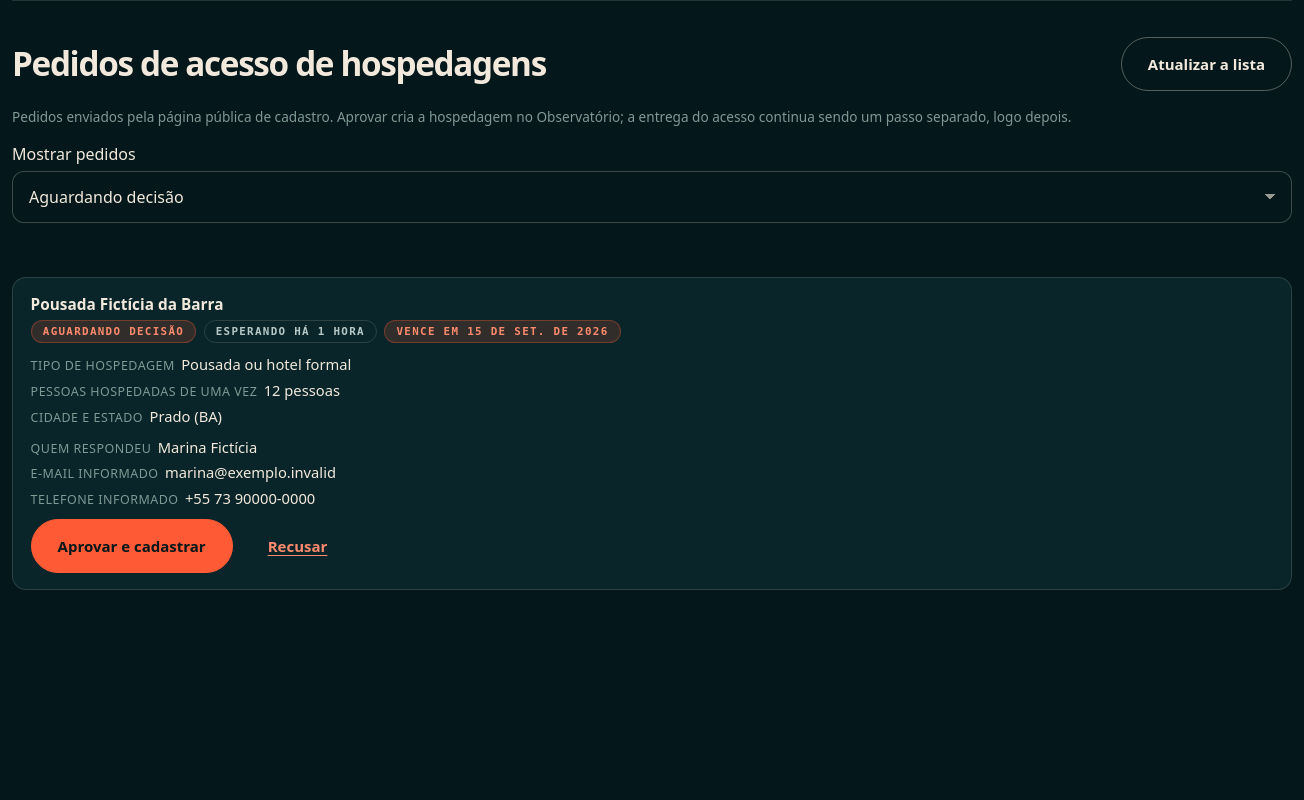
Test: fila de pedidos de acesso de hospedagens › explica o conflito de versão sem oferecer a emissão
Expected: the heading "Pedidos de acesso de hospedagens" is shown, [12, 47, 546, 81]
Click the button "Aprovar e cadastrar" at (132, 546), box [31, 519, 233, 573]
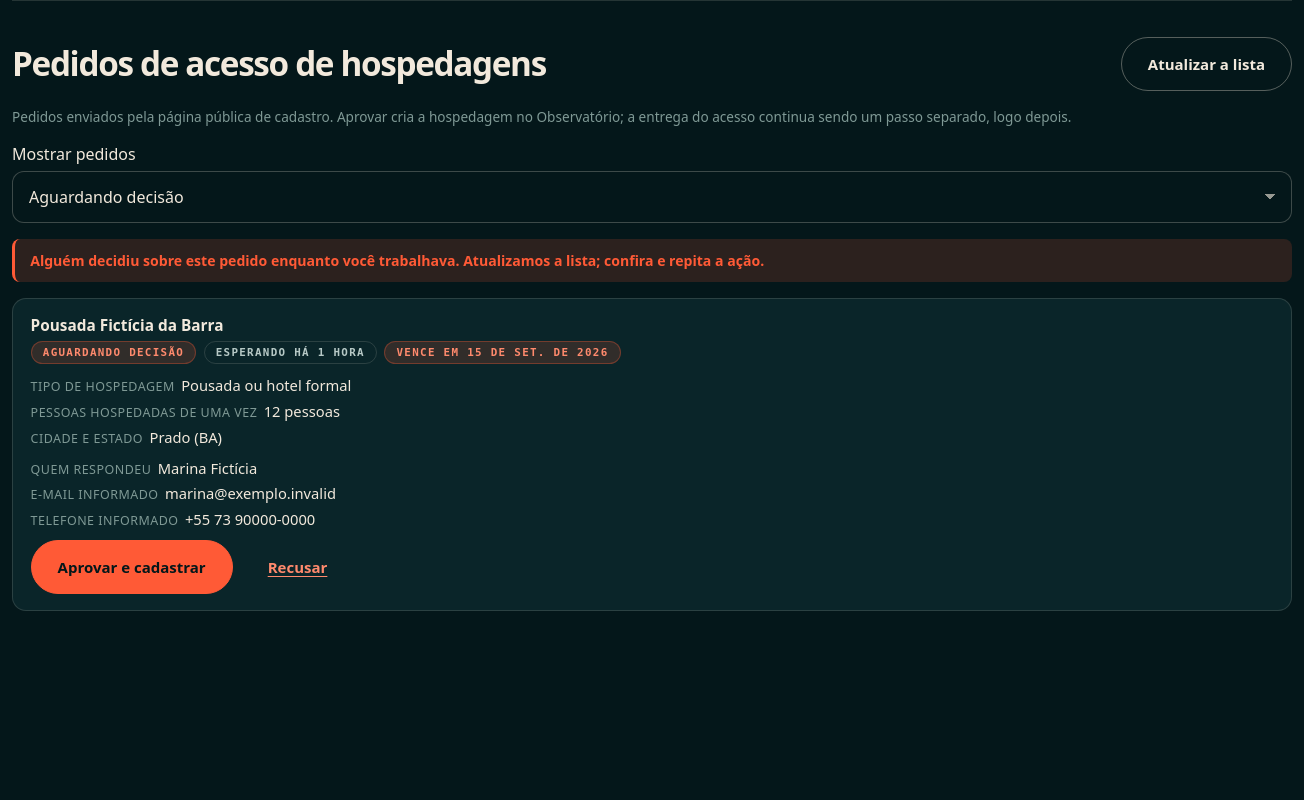
Result: the text "Alguém decidiu sobre este pedido" is shown at [30, 251, 764, 270]
